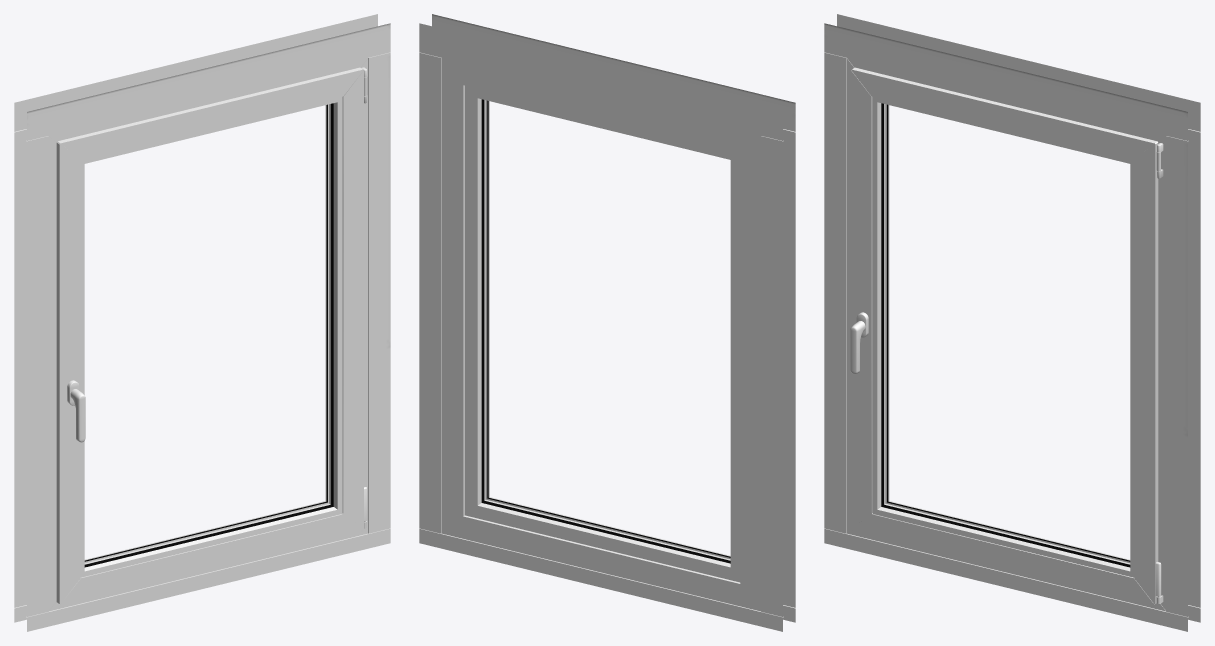
Rendered from window-transformed.glb.
The picture shows the model from 3 angles, left to right: view 1: azimuth 30°, elevation 25°; view 2: azimuth 150°, elevation 25°; view 3: azimuth 330°, elevation 25°; orthographic projection.
Visible parts, largest first — view 1: #WIN0003_Frame_#WIN0003_Textures_0, #WIN0003_Window_#WIN0003_Textures_0, #WIN0003_Handle_#WIN0003_Textures_0; view 2: #WIN0003_Frame_#WIN0003_Textures_0, #WIN0003_Window_#WIN0003_Textures_0; view 3: #WIN0003_Frame_#WIN0003_Textures_0, #WIN0003_Window_#WIN0003_Textures_0, #WIN0003_Handle_#WIN0003_Textures_0.
Part boxes in pixels (x1,y1,x2,y2): #WIN0003_Frame_#WIN0003_Textures_0: (14,14,390,631); #WIN0003_Window_#WIN0003_Textures_0: (56,67,367,604); #WIN0003_Handle_#WIN0003_Textures_0: (70,389,85,442); #WIN0003_Frame_#WIN0003_Textures_0: (419,14,795,631); #WIN0003_Window_#WIN0003_Textures_0: (465,85,740,582); #WIN0003_Frame_#WIN0003_Textures_0: (824,14,1200,631); #WIN0003_Window_#WIN0003_Textures_0: (851,67,1161,604); #WIN0003_Handle_#WIN0003_Textures_0: (850,321,865,374).
Bounding box in the file's own units: 1.04 × 1.42 × 0.128.
1 material, 1 textured.
